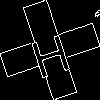H: (25, 25, 74, 79)
